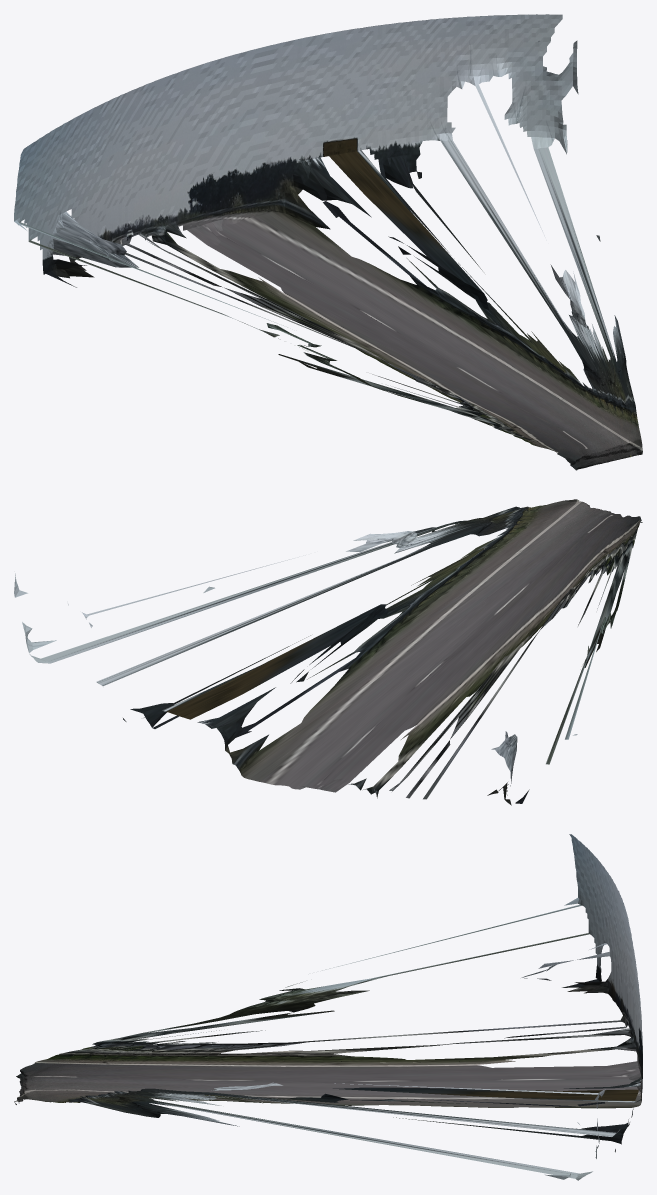
The picture shows the model from 3 angles, top to bottom: view 1: azimuth 30°, elevation 25°; view 2: azimuth 150°, elevation 25°; view 3: azimuth 270°, elevation 25°; orthographic projection. The views are drawn at different scales.
Parts seen in each view (by area): view 1: defaultobject; view 2: defaultobject; view 3: defaultobject.
Boxes of the visible parts, box(x1,y1,x2,y2) form: defaultobject: box(14, 14, 642, 470); defaultobject: box(14, 499, 642, 805); defaultobject: box(14, 834, 642, 1180).
Bounding box in the file's own units: 40.91 × 12.09 × 44.5.
Materials: 1 (1 with a texture image).
